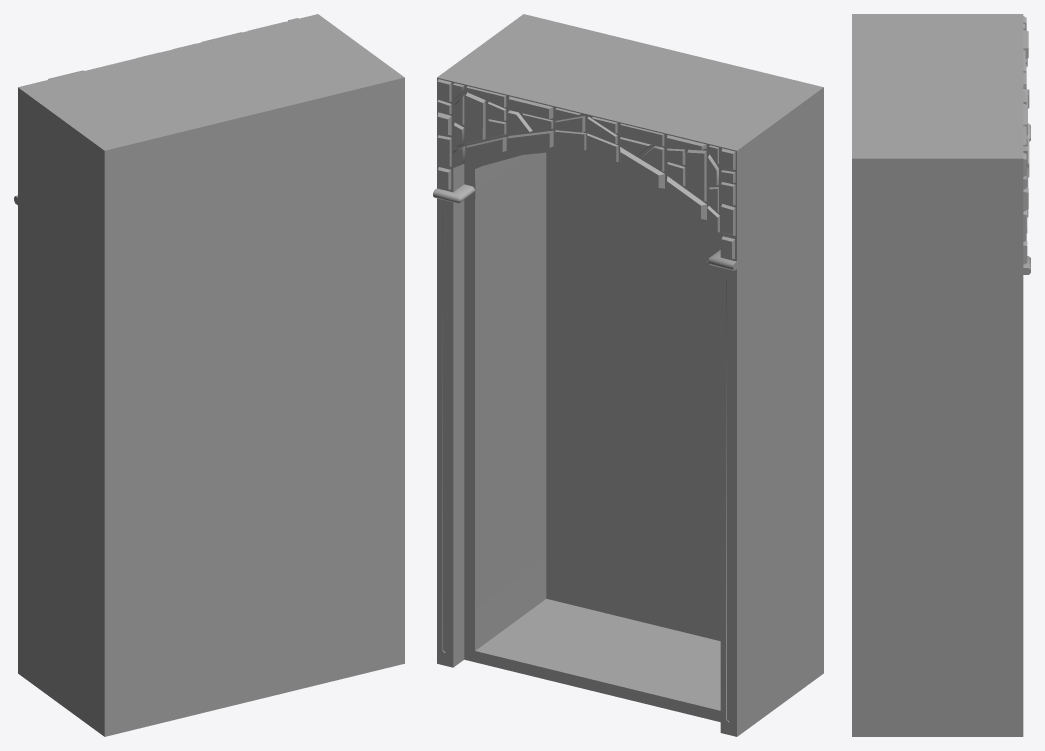
Rendered from Wall_Fat_Hole.fbx.
The picture shows the model from 3 angles, left to right: view 1: azimuth 30°, elevation 25°; view 2: azimuth 150°, elevation 25°; view 3: azimuth 270°, elevation 25°; orthographic projection.
Visible parts, largest first — view 1: Wall.fat.hole; view 2: Wall.fat.hole; view 3: Wall.fat.hole.
Part boxes in pixels (x1,y1,x2,y2): Wall.fat.hole: (14,14,404,736); Wall.fat.hole: (433,14,823,736); Wall.fat.hole: (852,14,1030,736).
Size of the model in its own units: 174 by 324 by 90.75.
